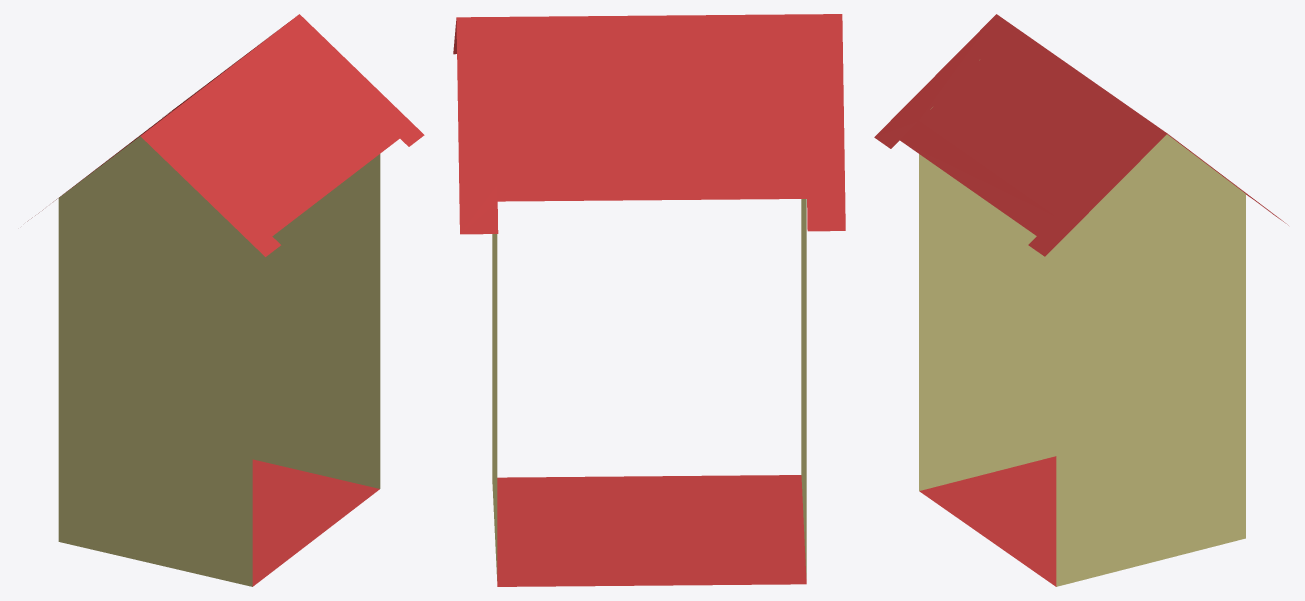
The picture shows the model from 3 angles, left to right: view 1: azimuth 30°, elevation 25°; view 2: azimuth 150°, elevation 25°; view 3: azimuth 270°, elevation 25°; orthographic projection. The views are drawn at different scales.
Size of the model in its own units: 6.57 by 6.35 by 7.42.
